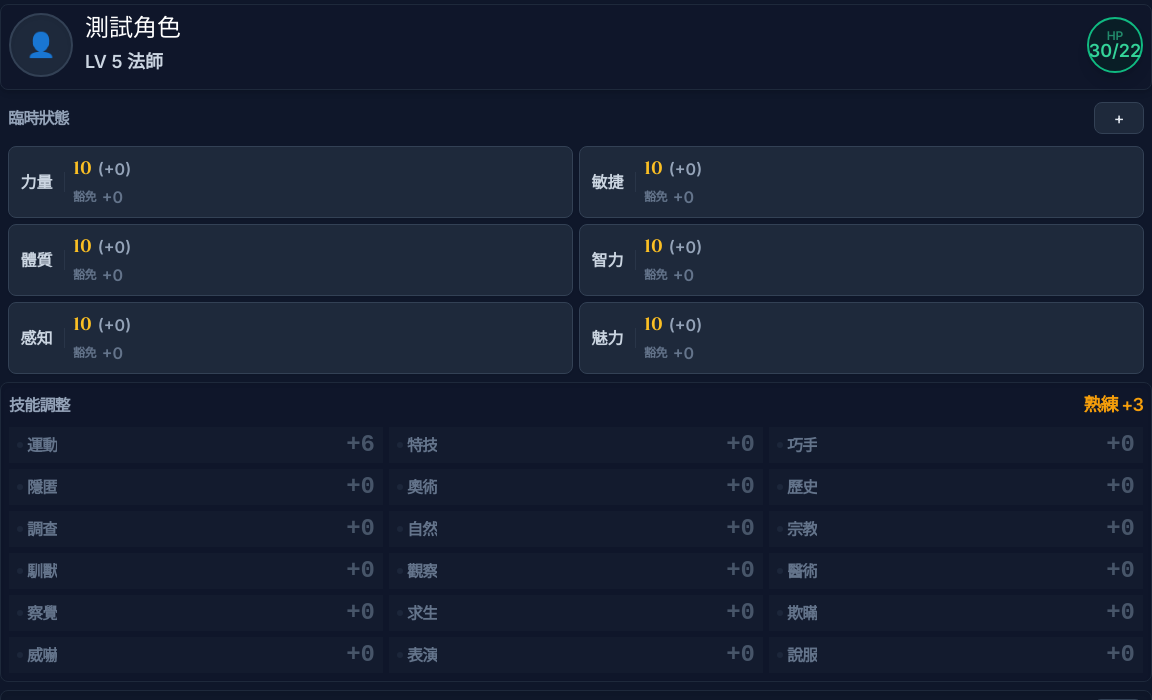
Test: 技能詳細彈窗 - 能力/物品賦予的熟練/專精 › 最終技能加值應包含專精加值（不是 +0）
Click the text "運動" at x=42, y=445, box [27,437,57,453]
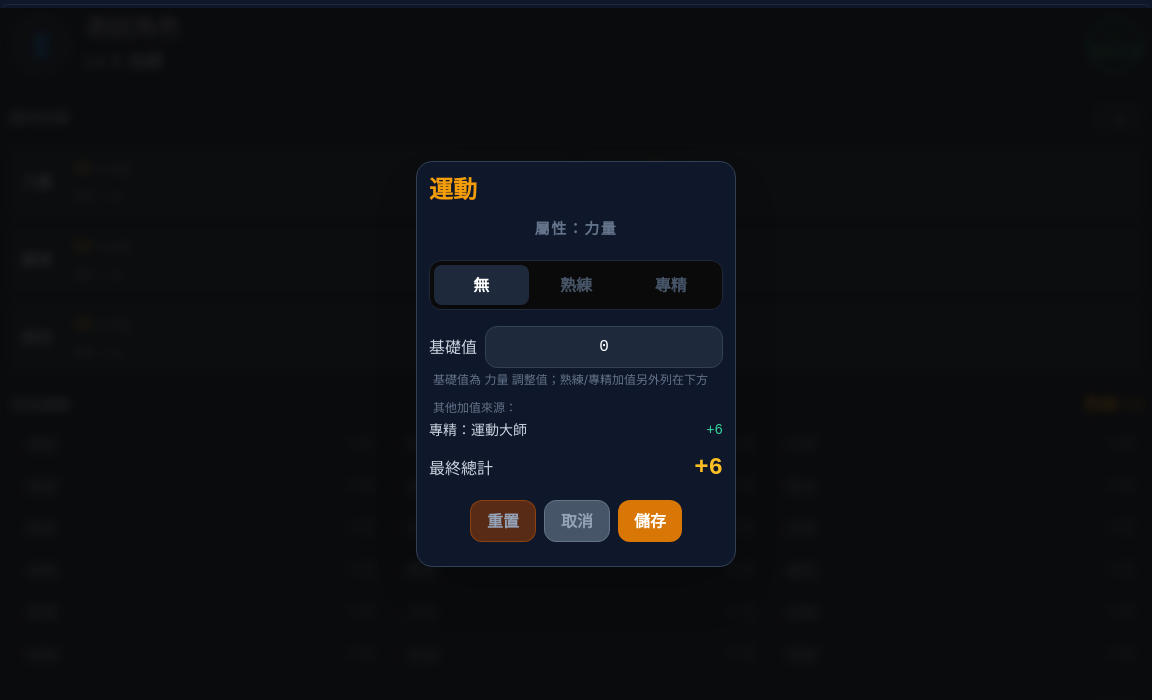
expect the text "最終總計" is shown: met, box [429,456,493,480]
expect the text "最終總計" shows "+6": met, box [429,452,723,484]
